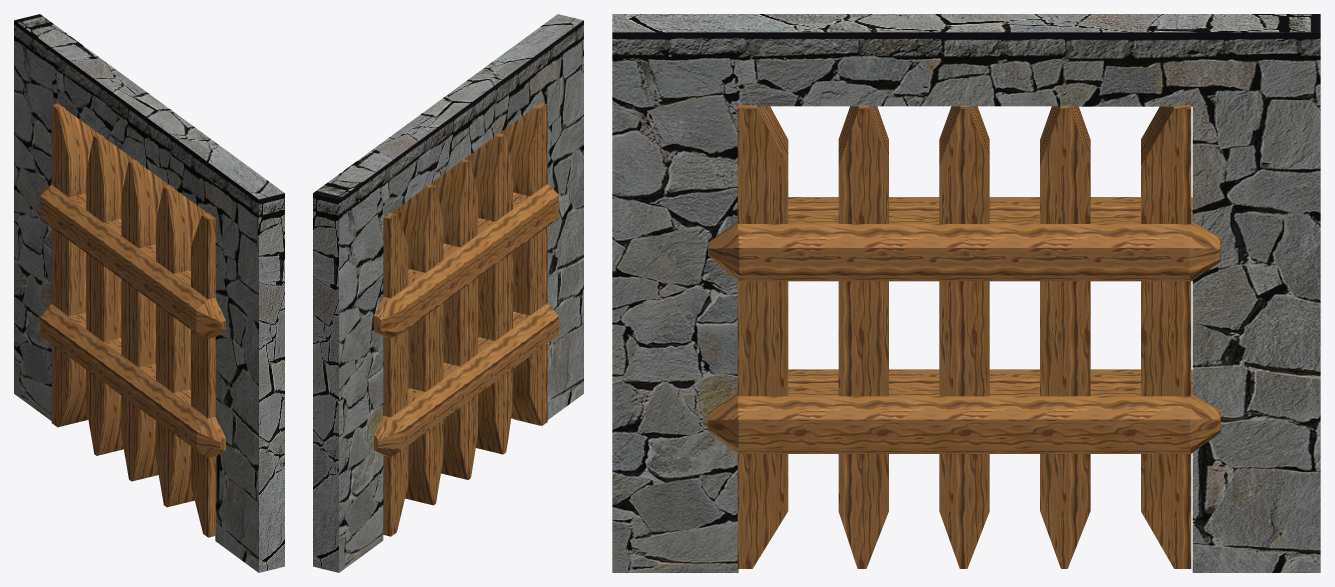
The model's file is gated_door.FBX.
3 views of the same model, side by side, from view 1: azimuth 30°, elevation 25°; view 2: azimuth 150°, elevation 25°; view 3: azimuth 270°, elevation 25° (orthographic). The views are drawn at different scales.
Visible parts, largest first — view 1: Box007, Box008; view 2: Box007, Box008; view 3: Box007, Box008.
Part boxes in pixels (x1,y1,x2,y2): Box007: [14, 14, 284, 572]; Box008: [40, 103, 225, 537]; Box007: [313, 14, 583, 572]; Box008: [373, 102, 558, 536]; Box007: [612, 14, 1320, 572]; Box008: [707, 105, 1220, 568].
Size of the model in its own units: 0.6732 by 4.55 by 3.83.
Materials: 2 (2 with a texture image).
